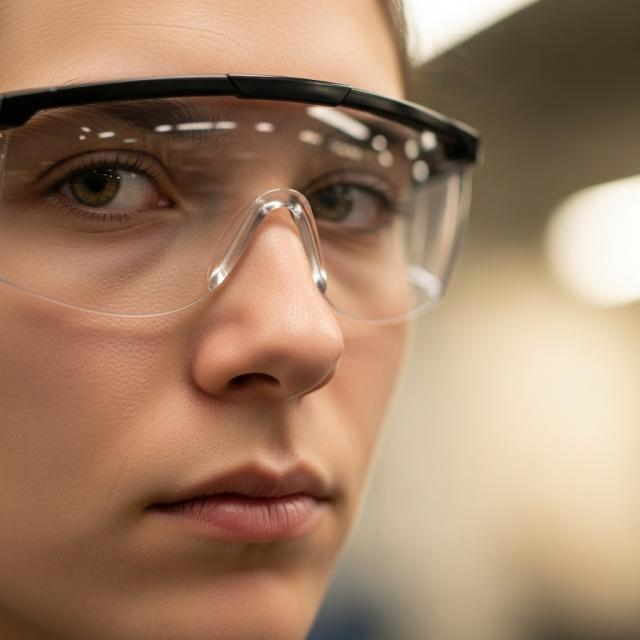oculos-epi: (0, 74, 476, 323)
